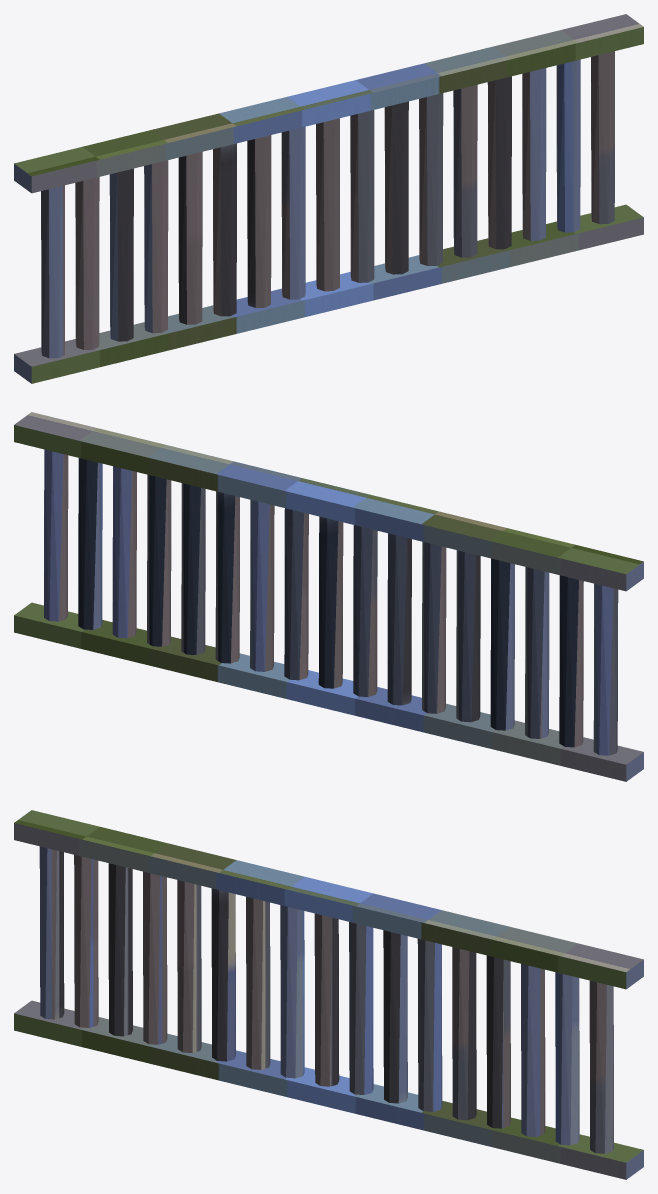
The model's file is Puerta.fbx.
3 views of the same model, one above another, from view 1: azimuth 30°, elevation 25°; view 2: azimuth 150°, elevation 25°; view 3: azimuth 330°, elevation 25° (orthographic).
Visible parts, largest first — view 1: puertamueseo; view 2: puertamueseo; view 3: puertamueseo.
Part boxes in pixels (left/top/right/bottom): puertamueseo: left=14, top=14, right=643, bottom=383; puertamueseo: left=14, top=412, right=643, bottom=781; puertamueseo: left=14, top=810, right=643, bottom=1179.
Bounding box in the file's own units: 840 × 272 × 41.95.
